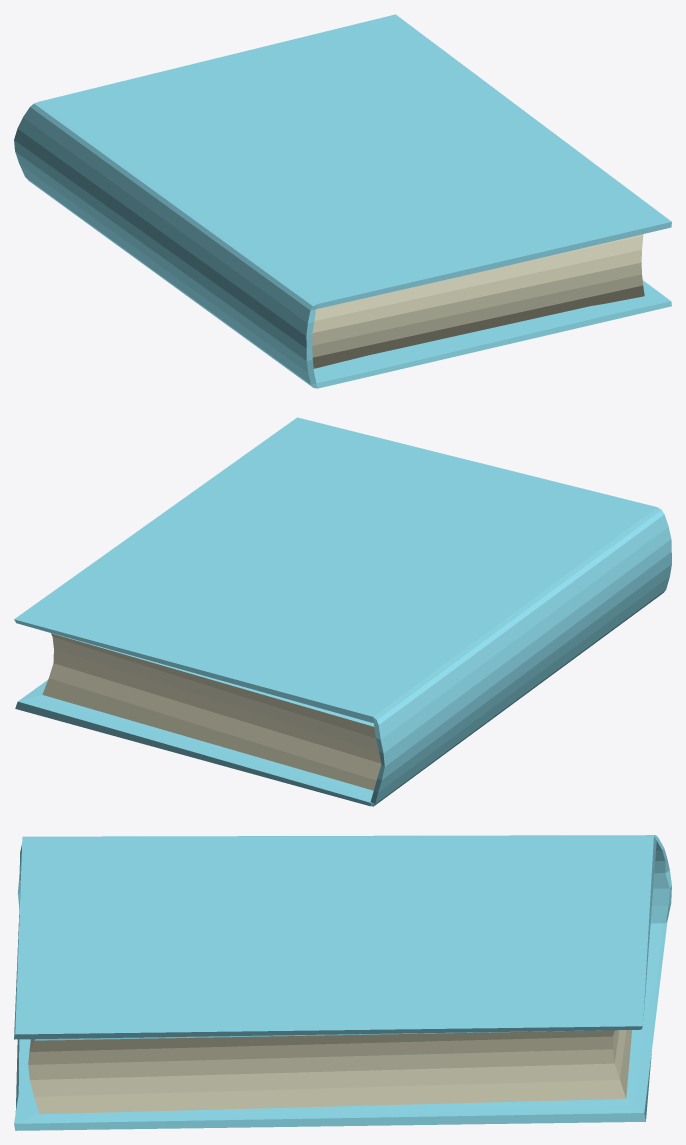
File: PastelBlueBook.fbx
3 renders of one model, top to bottom at view 1: azimuth 30°, elevation 25°; view 2: azimuth 150°, elevation 25°; view 3: azimuth 270°, elevation 25°, orthographic. The views are drawn at different scales.
Parts seen in each view (by area): view 1: Cube; view 2: Cube; view 3: Cube.
Part boxes in pixels (<box>): Cube: <box>14,14,671,388</box>; Cube: <box>14,417,671,806</box>; Cube: <box>14,835,671,1130</box>.
Size of the model in its own units: 182 by 42.66 by 245.
